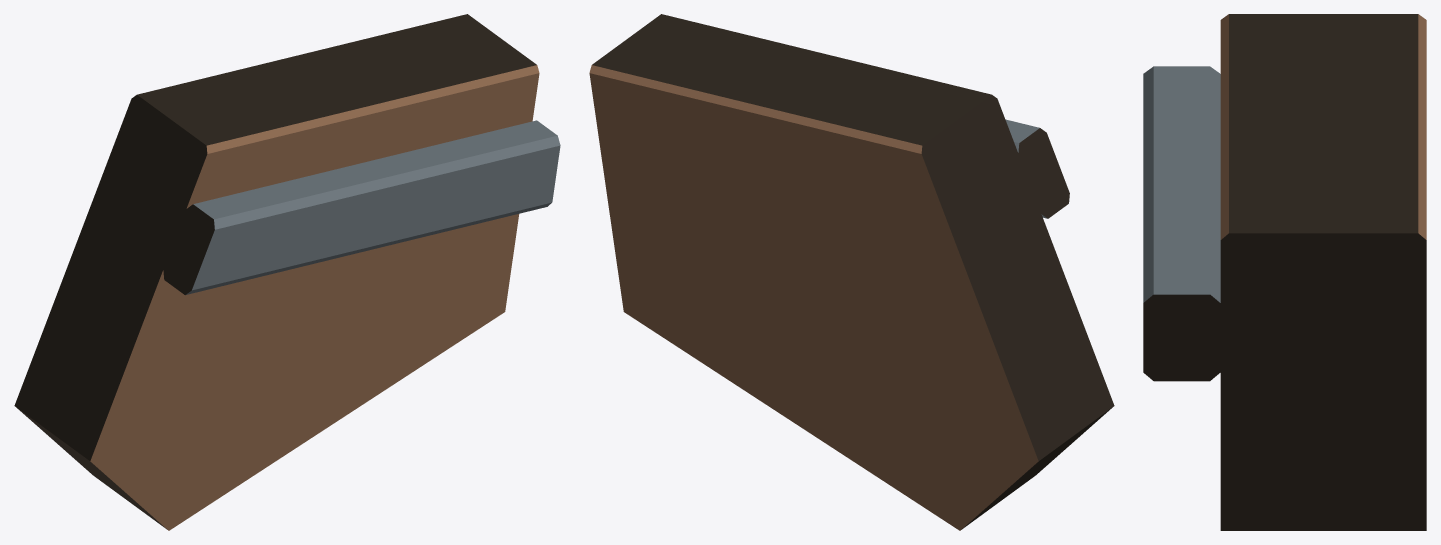
Rendered from SM_DoorShard_03_70.fbx.
The picture shows the model from 3 angles, left to right: view 1: azimuth 30°, elevation 25°; view 2: azimuth 150°, elevation 25°; view 3: azimuth 270°, elevation 25°; orthographic projection. The views are drawn at different scales.
Parts seen in each view (by area): view 1: SM_DoorShard_03_70; view 2: SM_DoorShard_03_70; view 3: SM_DoorShard_03_70.
Part boxes in pixels (x1,y1,x2,y2): SM_DoorShard_03_70: (14,14,560,530); SM_DoorShard_03_70: (589,14,1114,530); SM_DoorShard_03_70: (1143,14,1426,530).
Bounding box in the file's own units: 54.82 × 22 × 43.43.
